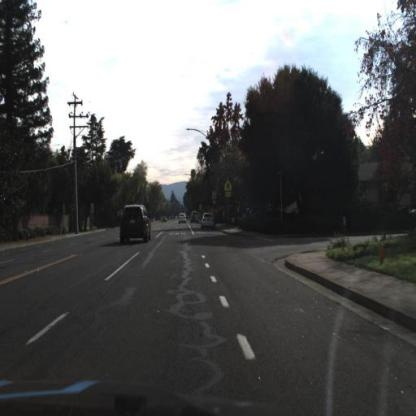car: (116, 199, 154, 248), (176, 210, 188, 226), (190, 209, 200, 225), (176, 212, 187, 226), (203, 214, 214, 228)
